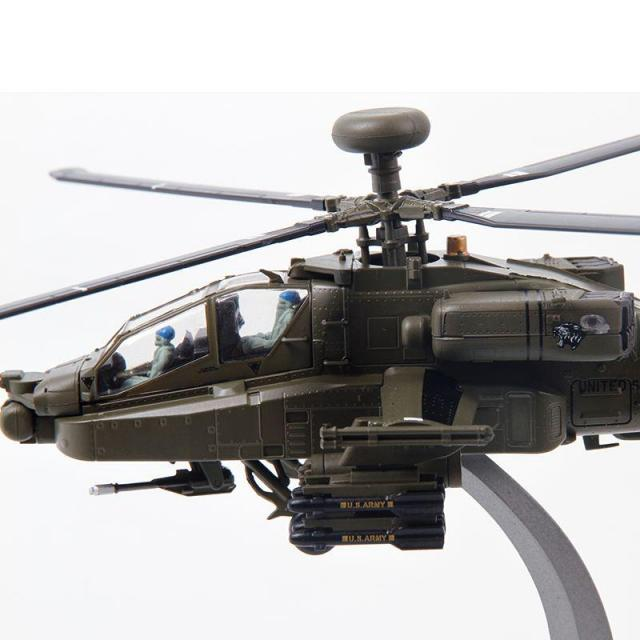MIL_HELO: (13, 99, 640, 562)
